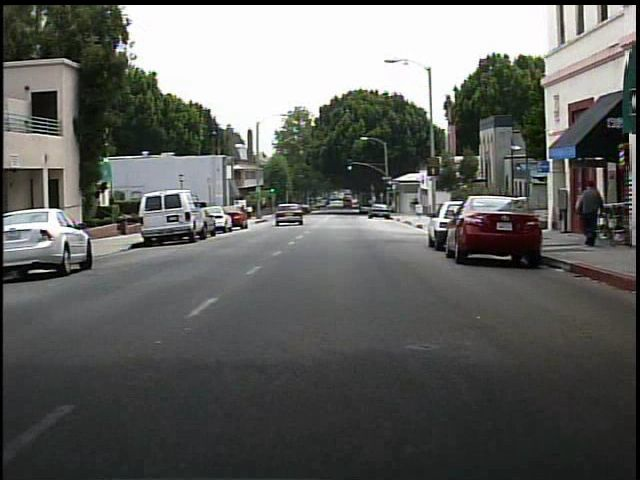person: (573, 180, 607, 248)
